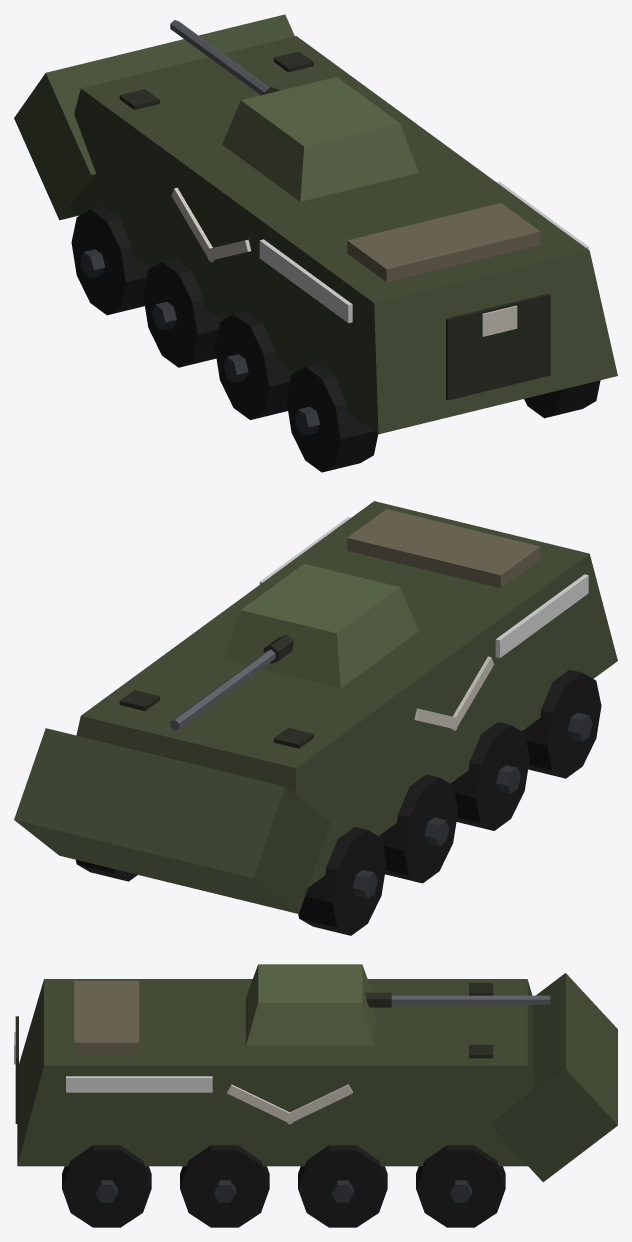
Rendered from ifv_modern.glb.
3 renders of one model, top to bottom at view 1: azimuth 30°, elevation 25°; view 2: azimuth 150°, elevation 25°; view 3: azimuth 270°, elevation 25°, orthographic. The views are drawn at different scales.
Visible parts, largest first — view 1: ifv_modern; view 2: ifv_modern; view 3: ifv_modern.
Part boxes in pixels (x1,y1,x2,y2): ifv_modern: (14,14,617,472); ifv_modern: (14,501,617,935); ifv_modern: (14,964,617,1227).
Bounding box in the file's own units: 3.32 × 2.6 × 7.42.
